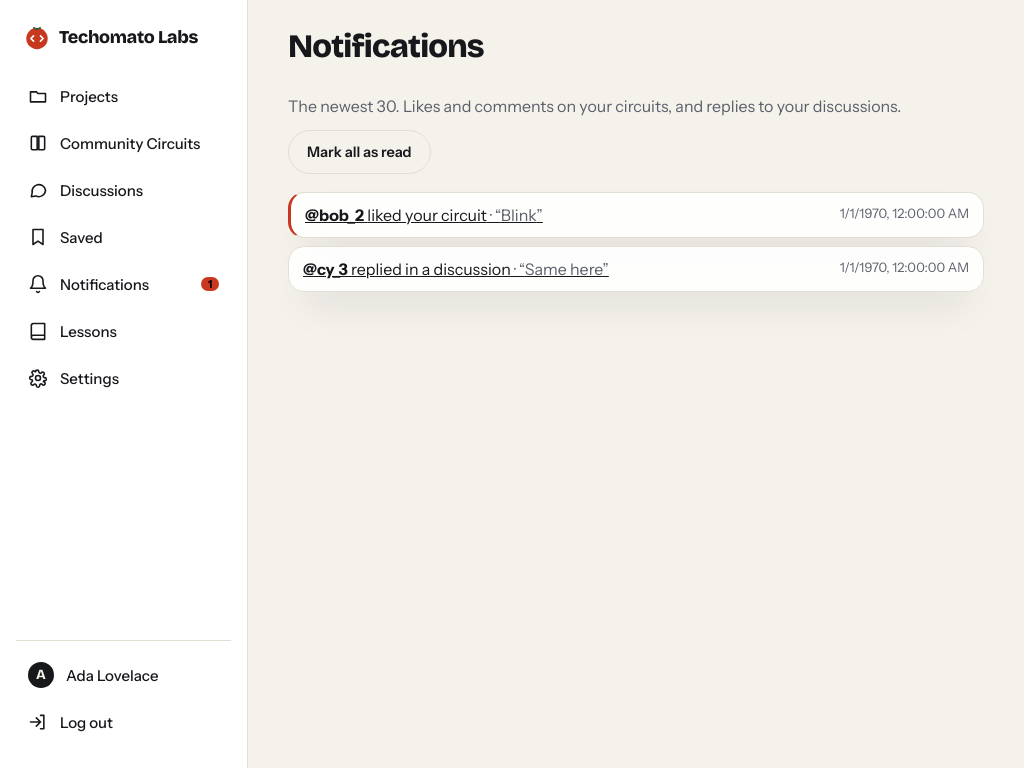
it: NotificationsPage › lists notifications with links, shows the unread count in the menu, and marks them read
This screenshot has width=1024, height=768.
Expected: the text named "1 unread" is shown, [201,277,219,291]
Click the button "Mark all as read".
click(359, 152)  # box [288,130,431,174]
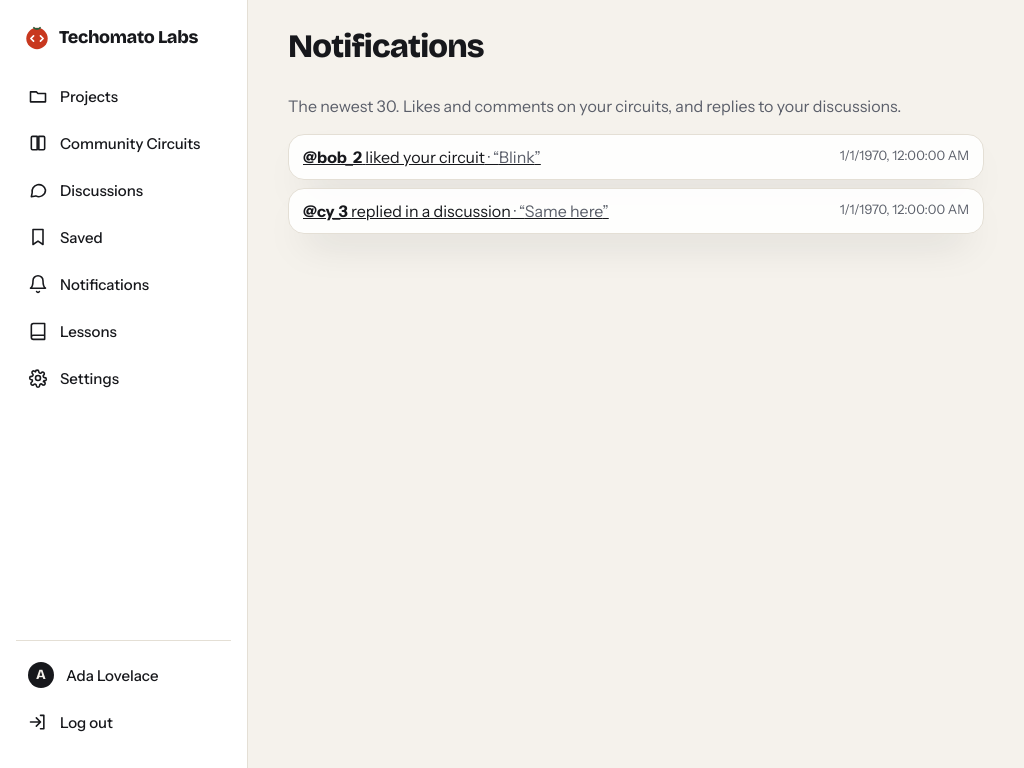
Result: the text labelled "1 unread" is gone
Result: the button "Mark all as read" is gone
